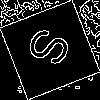S: (24, 24, 81, 74)
